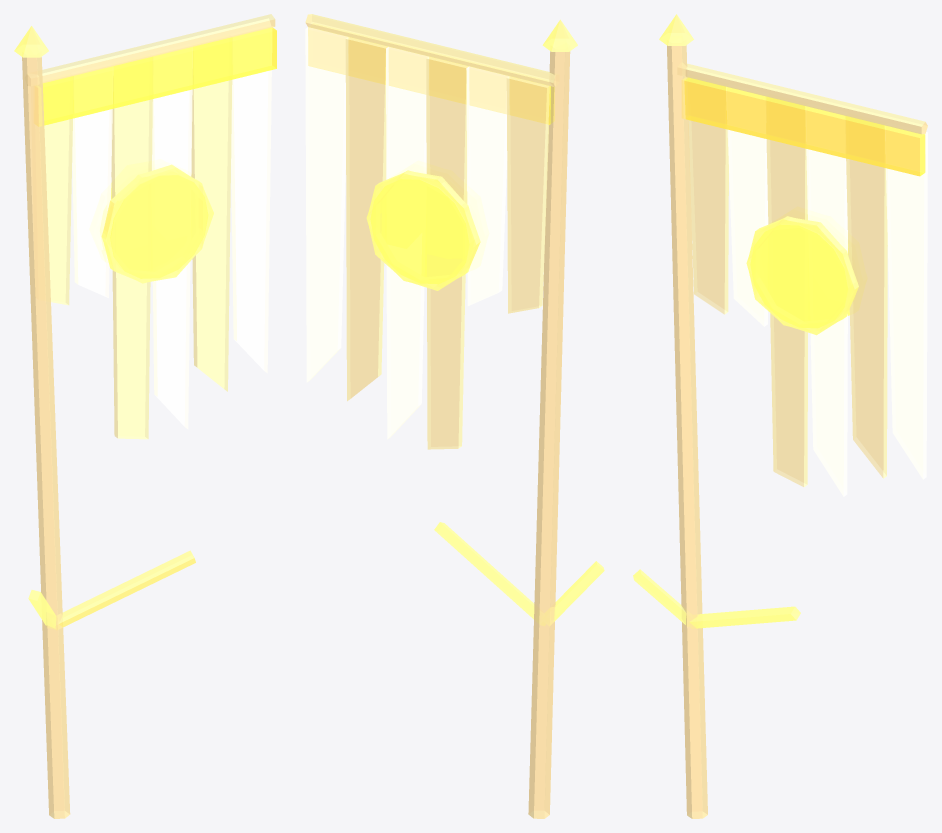
Rendered from commander_banner.glb.
3 views of the same model, side by side, from view 1: azimuth 30°, elevation 25°; view 2: azimuth 150°, elevation 25°; view 3: azimuth 330°, elevation 25° (orthographic).
Parts seen in each view (by area): view 1: commander_banner; view 2: commander_banner; view 3: commander_banner.
Part boxes in pixels (bbox=[...]): commander_banner: bbox=[14, 14, 276, 818]; commander_banner: bbox=[305, 14, 604, 818]; commander_banner: bbox=[633, 14, 927, 818].
Bounding box in the file's own units: 0.8769 × 2.48 × 0.2134.
